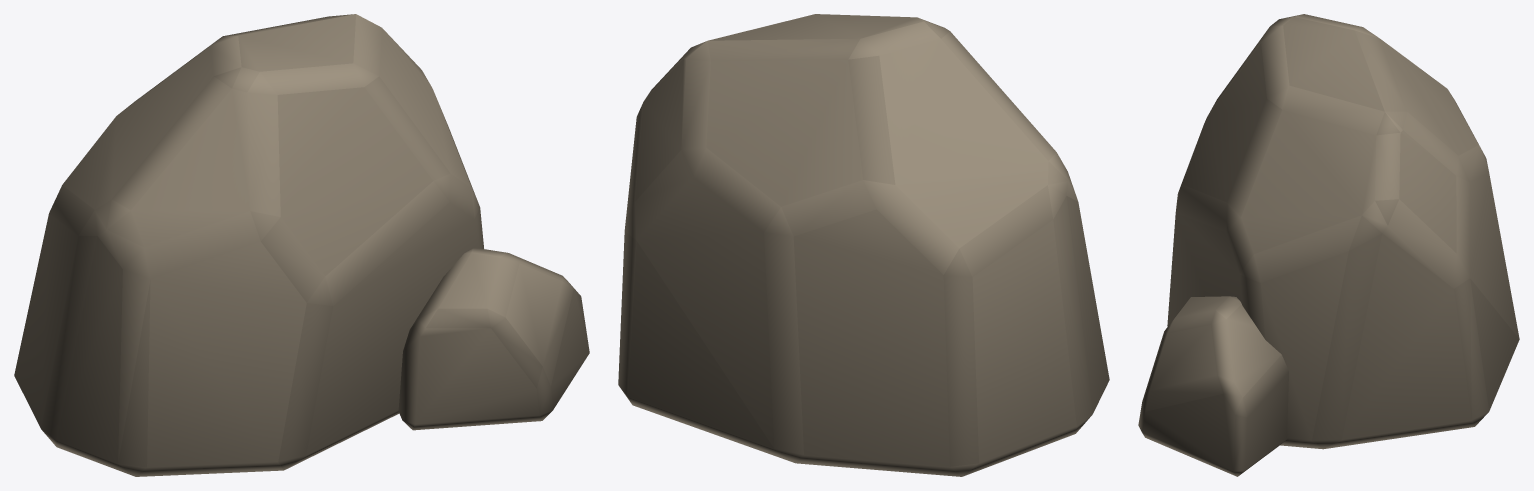
File: rock.glb
The picture shows the model from 3 angles, left to right: view 1: azimuth 30°, elevation 25°; view 2: azimuth 150°, elevation 25°; view 3: azimuth 270°, elevation 25°; orthographic projection. The views are drawn at different scales.
Visible parts, largest first — view 1: Boulder Boulder stone; view 2: Boulder Boulder stone; view 3: Boulder Boulder stone.
Boxes of the visible parts, x1,y1,x2,y2 form: Boulder Boulder stone: (14, 14, 589, 476); Boulder Boulder stone: (618, 14, 1109, 476); Boulder Boulder stone: (1138, 14, 1519, 476).
Bounding box in the file's own units: 2.8 × 1.92 × 2.05.
